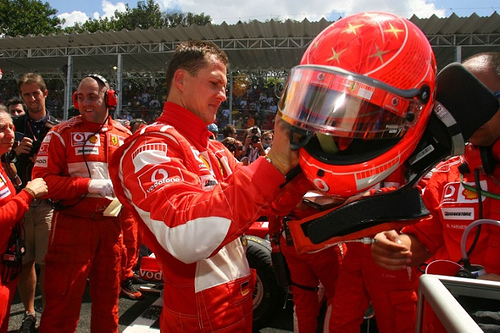helmet: (285, 25, 434, 184)
